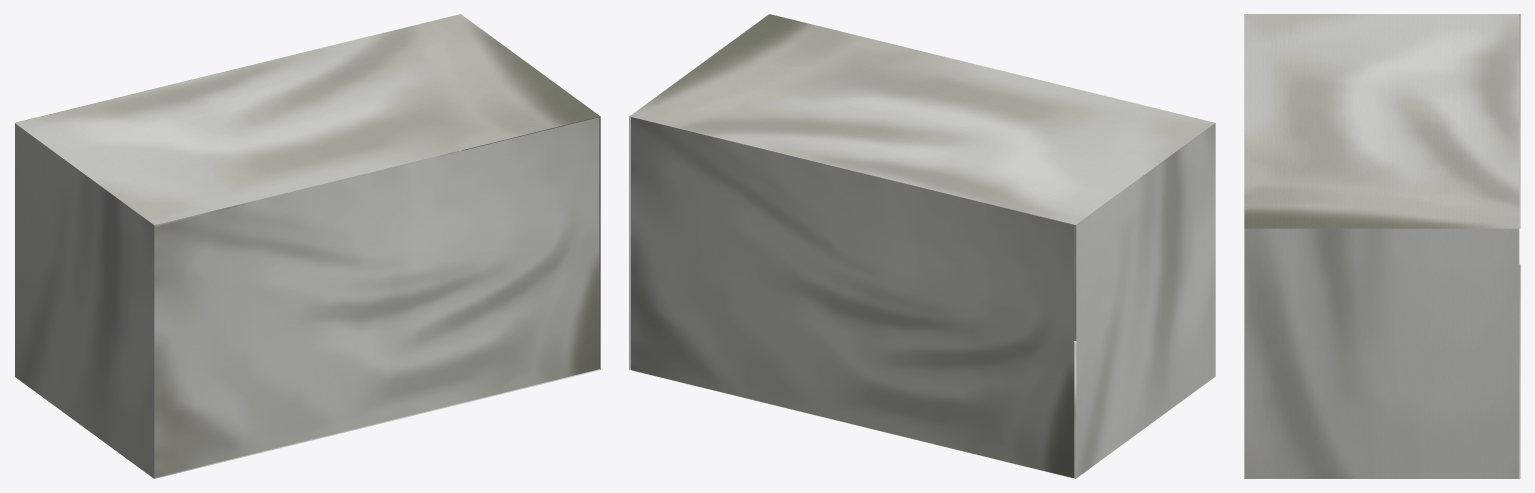
Rendered from crashpad.fbx.
3 views of the same model, side by side, from view 1: azimuth 30°, elevation 25°; view 2: azimuth 150°, elevation 25°; view 3: azimuth 270°, elevation 25° (orthographic).
Visible parts, largest first — view 1: Cube; view 2: Cube; view 3: Cube.
Boxes of the visible parts, left/top/right/bottom form: Cube: left=14, top=14, right=600, bottom=478; Cube: left=629, top=14, right=1215, bottom=478; Cube: left=1244, top=14, right=1520, bottom=478.
Bounding box in the file's own units: 368 × 200 × 200.
